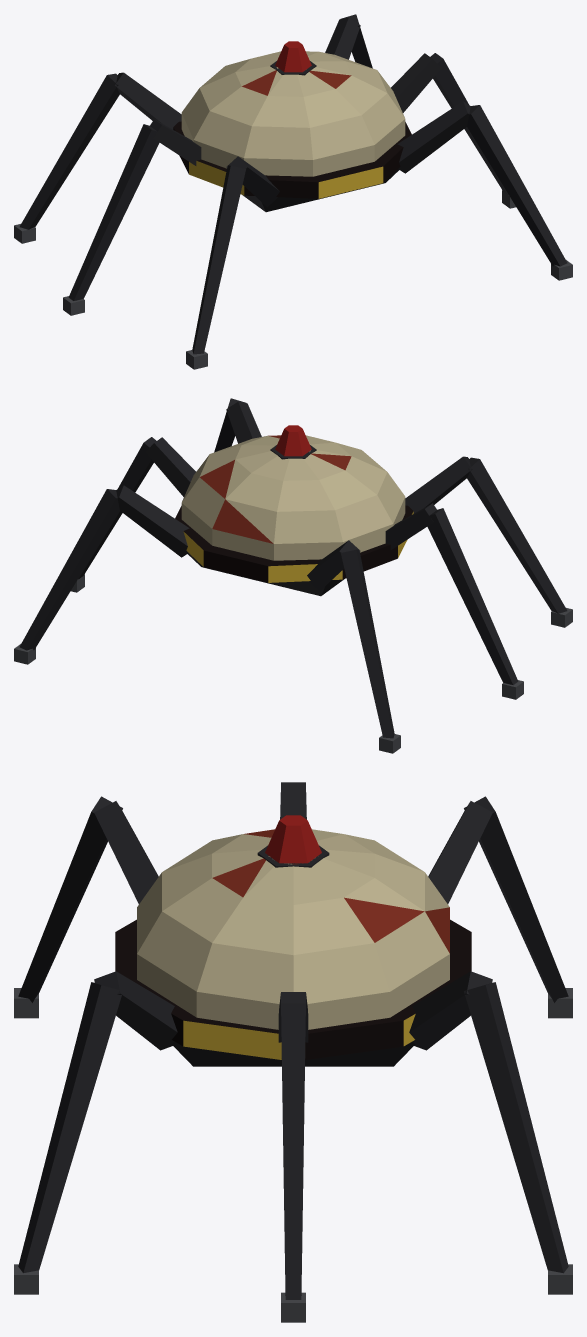
File: ai_crawler.glb
3 renders of one model, top to bottom at view 1: azimuth 30°, elevation 25°; view 2: azimuth 150°, elevation 25°; view 3: azimuth 270°, elevation 25°, orthographic. The views are drawn at different scales.
Visible parts, largest first — view 1: body, leg_fl, leg_br, leg_mr, leg_fr, leg_ml, leg_bl, head; view 2: body, leg_bl, leg_fr, leg_mr, leg_br, leg_ml, leg_fl, head; view 3: body, leg_fl, leg_bl, leg_fr, leg_br, leg_ml, head, leg_mr.
Part boxes in pixels (x1,y1,x2,y2): body: (173, 51, 411, 212); leg_fl: (397, 101, 572, 280); leg_br: (14, 72, 181, 243); leg_mr: (63, 119, 201, 315); leg_fr: (186, 156, 279, 369); leg_ml: (391, 53, 515, 208); leg_bl: (325, 14, 372, 68); head: (270, 41, 316, 75); body: (175, 435, 413, 596); leg_bl: (14, 485, 189, 664); leg_fr: (405, 456, 572, 627); leg_mr: (385, 503, 523, 699); leg_br: (307, 540, 400, 753); leg_ml: (71, 437, 195, 592); leg_fl: (214, 398, 261, 452); head: (270, 425, 316, 459); body: (115, 829, 471, 1066); leg_fl: (14, 971, 177, 1294); leg_bl: (409, 971, 572, 1294); leg_fr: (14, 796, 158, 1018); leg_br: (428, 796, 572, 1018); leg_ml: (278, 992, 308, 1322); head: (257, 815, 329, 867); leg_mr: (280, 782, 306, 819).
Bounding box in the file's own units: 1.13 × 0.51 × 0.7815.
